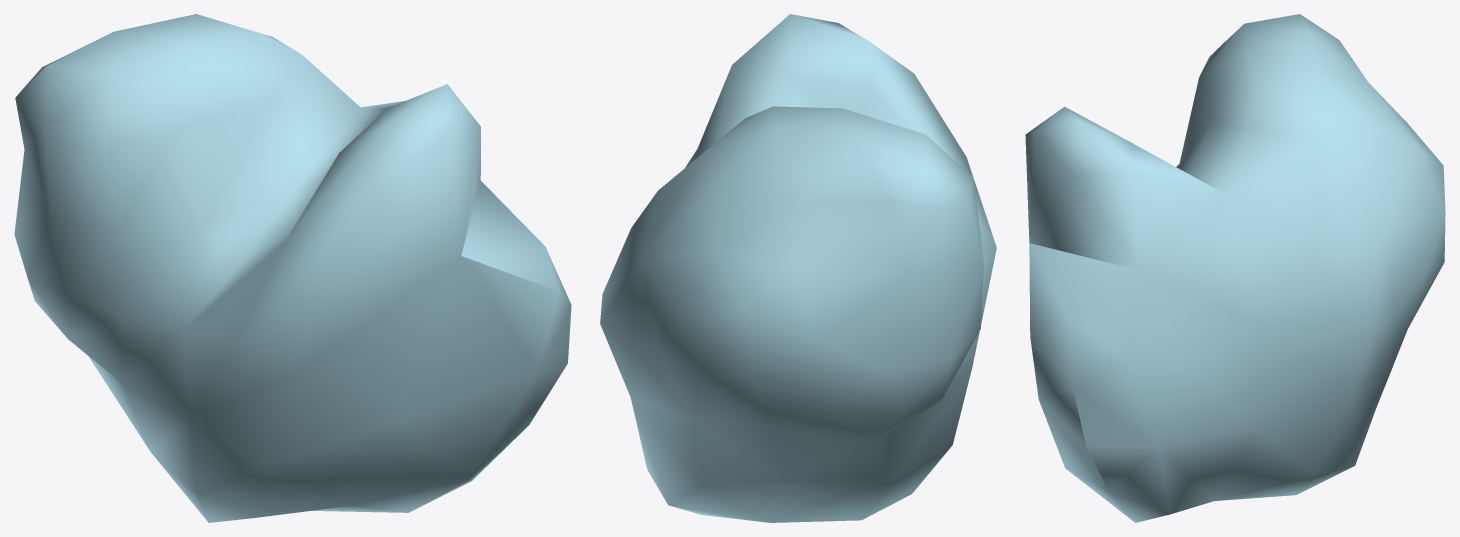
Rendered from spl-3023.glb.
3 views of the same model, side by side, from view 1: azimuth 30°, elevation 25°; view 2: azimuth 150°, elevation 25°; view 3: azimuth 270°, elevation 25° (orthographic). The views are drawn at different scales.
Visible parts, largest first — view 1: spl-3023; view 2: spl-3023; view 3: spl-3023.
Boxes of the visible parts, <box> form: spl-3023: <box>14,14,571,522</box>; spl-3023: <box>600,14,996,522</box>; spl-3023: <box>1025,14,1445,522</box>.
Bounding box in the file's own units: 5.01 × 5.1 × 4.94.
